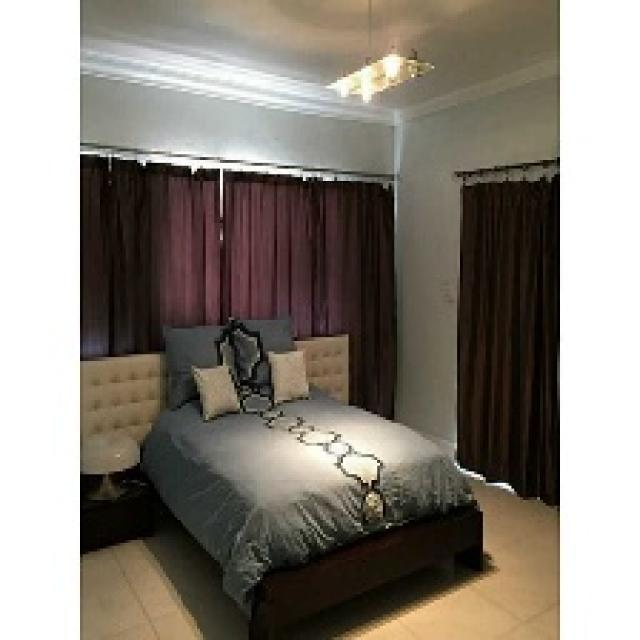Bed: (137, 320, 483, 637)
